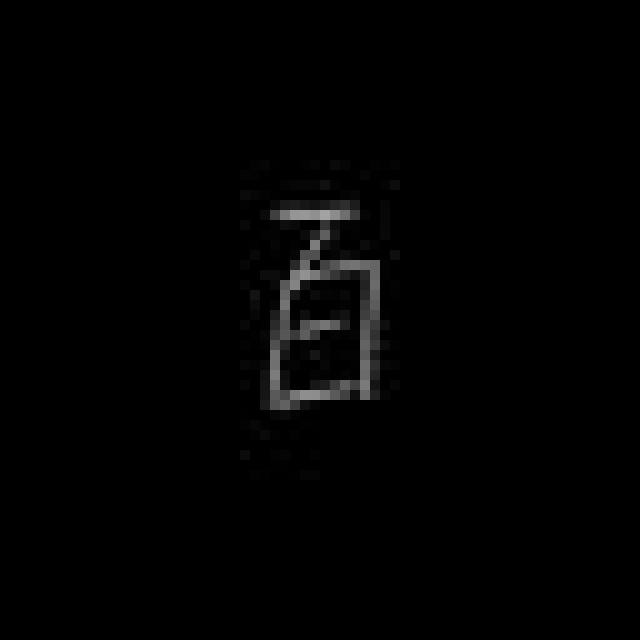100 -a hundred-: (237, 180, 407, 432)
